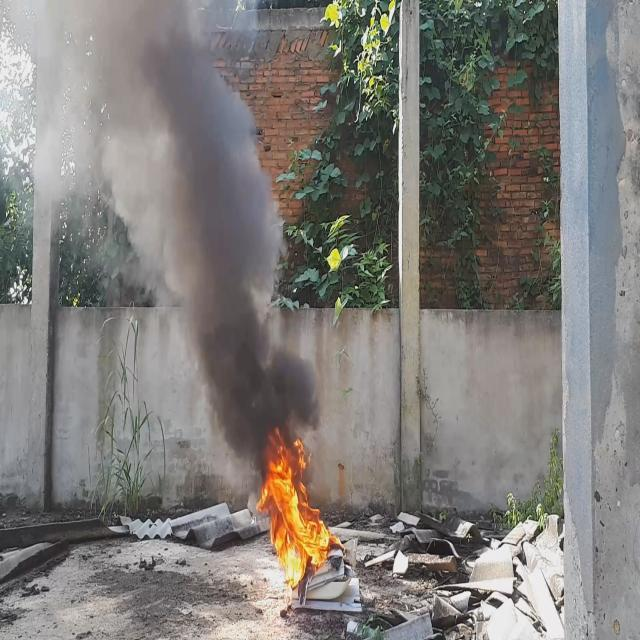Fire: (256, 422, 336, 596)
Smoke: (0, 0, 322, 484)
